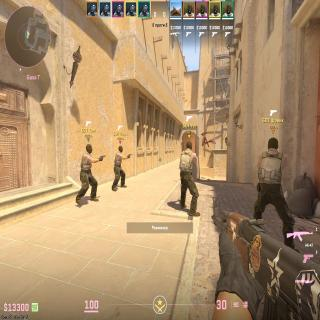T-Body: (259, 137, 288, 233), (180, 141, 198, 214), (80, 144, 93, 201), (114, 146, 125, 188)
T-Head: (268, 137, 278, 151), (86, 144, 93, 154), (186, 141, 192, 150), (119, 146, 123, 152)
